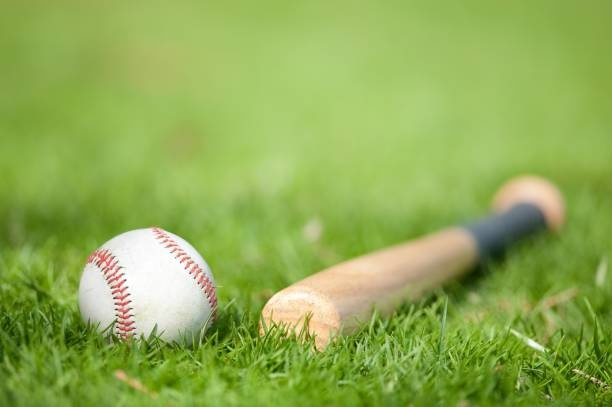bita: (258, 173, 557, 361)
